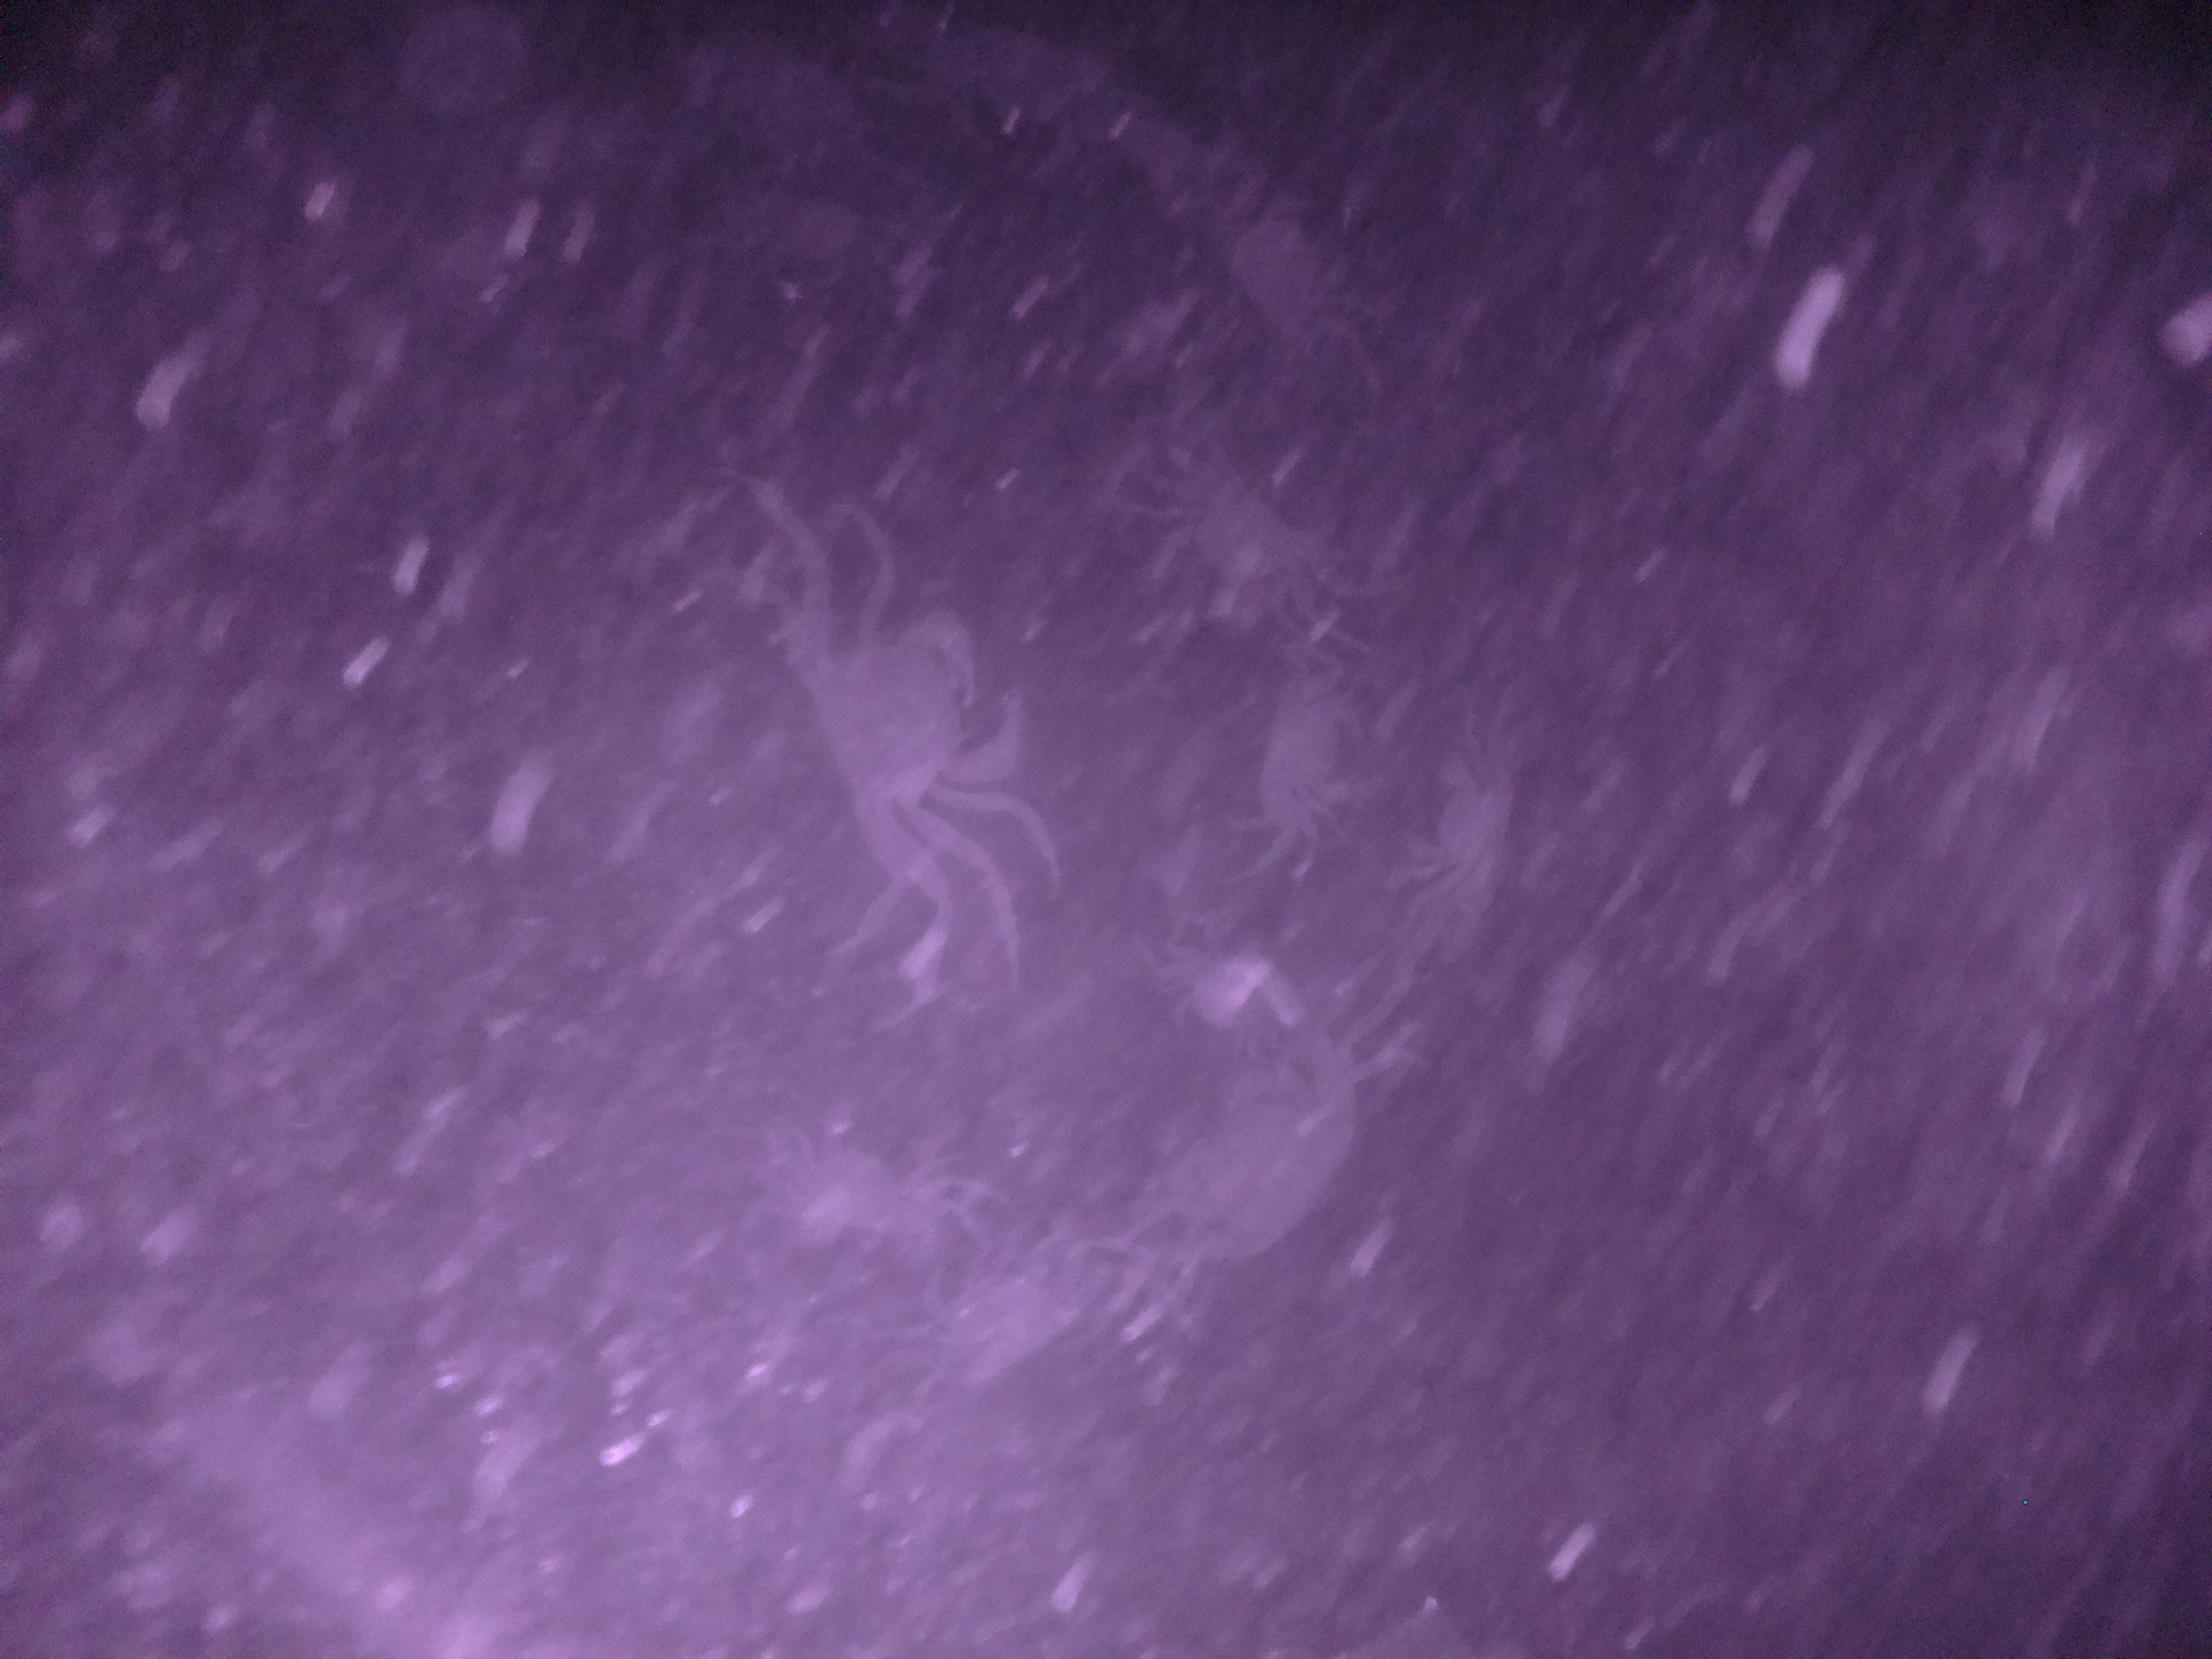Crab: (768, 587, 1040, 884), (1146, 448, 1325, 627), (1256, 647, 1379, 870), (1404, 709, 1529, 929)
